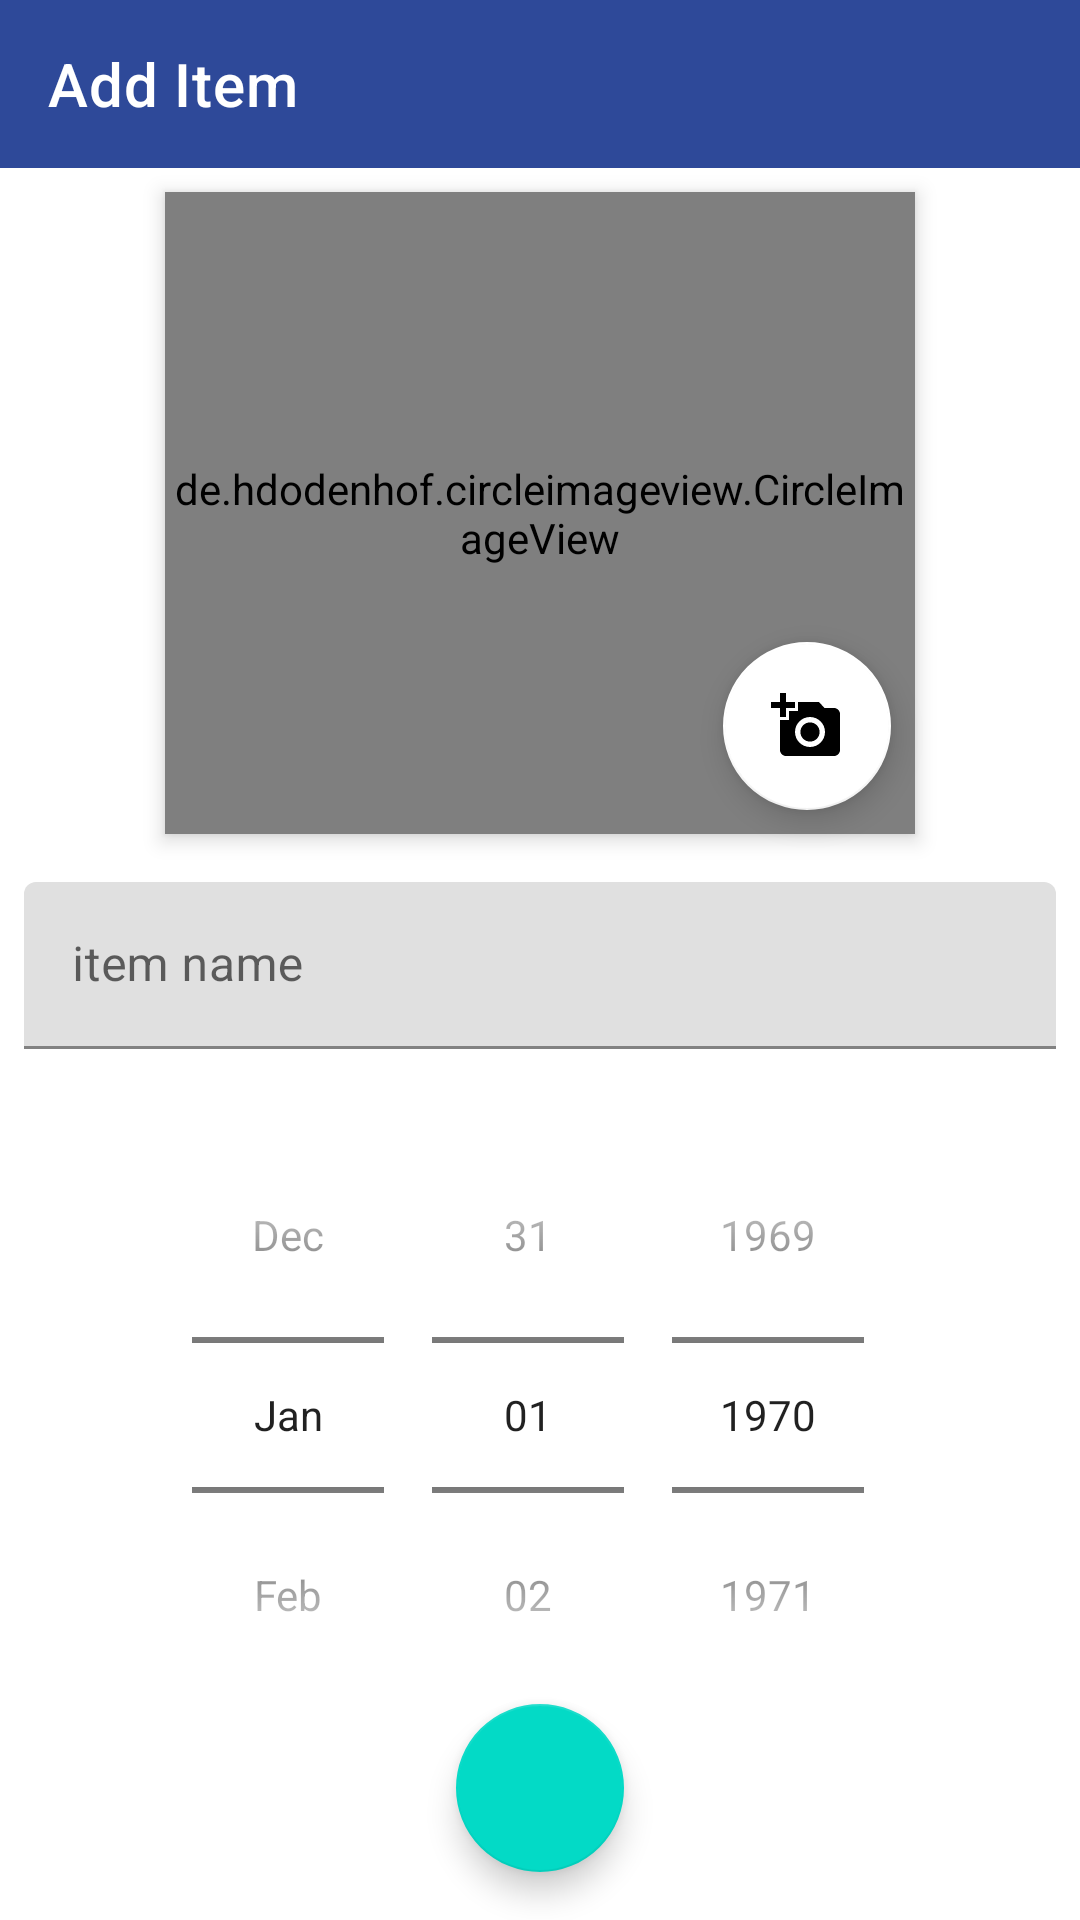

Point at icon controls on the screen. Image size 1080 × 1920, points as [x,y].
photo: [807,726]
